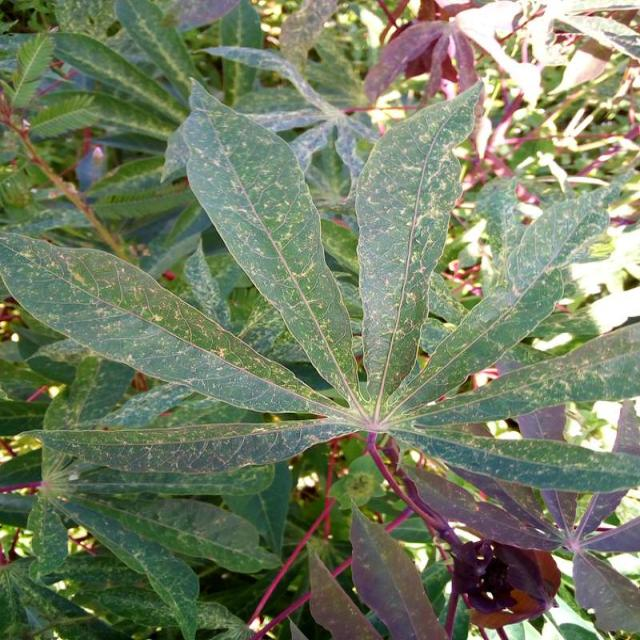cassava leaf: (1, 65, 638, 637), (177, 76, 360, 407), (354, 76, 484, 406)
